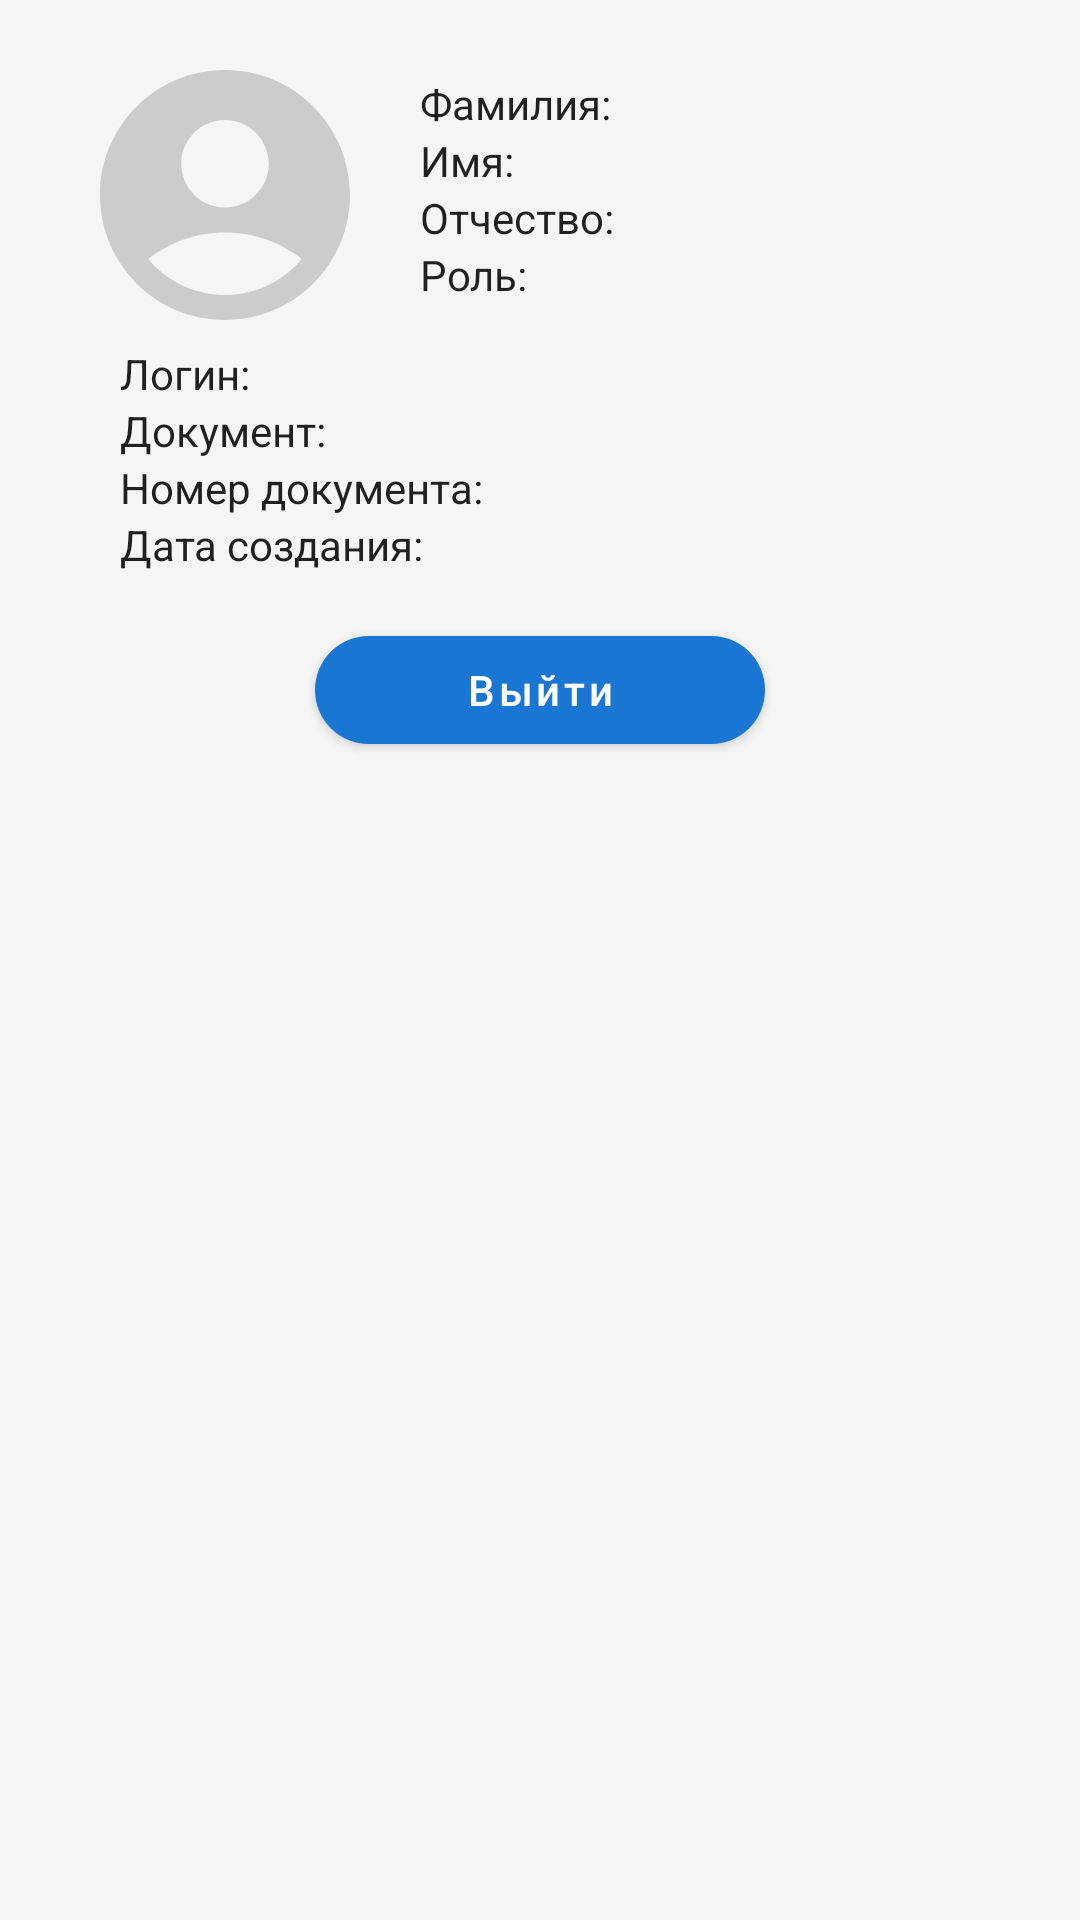

Screen size 1080 × 1920. Icon name, then its box in pixels as [x1,y1,x2,y2]:
Профиль: [100,70,350,320]
